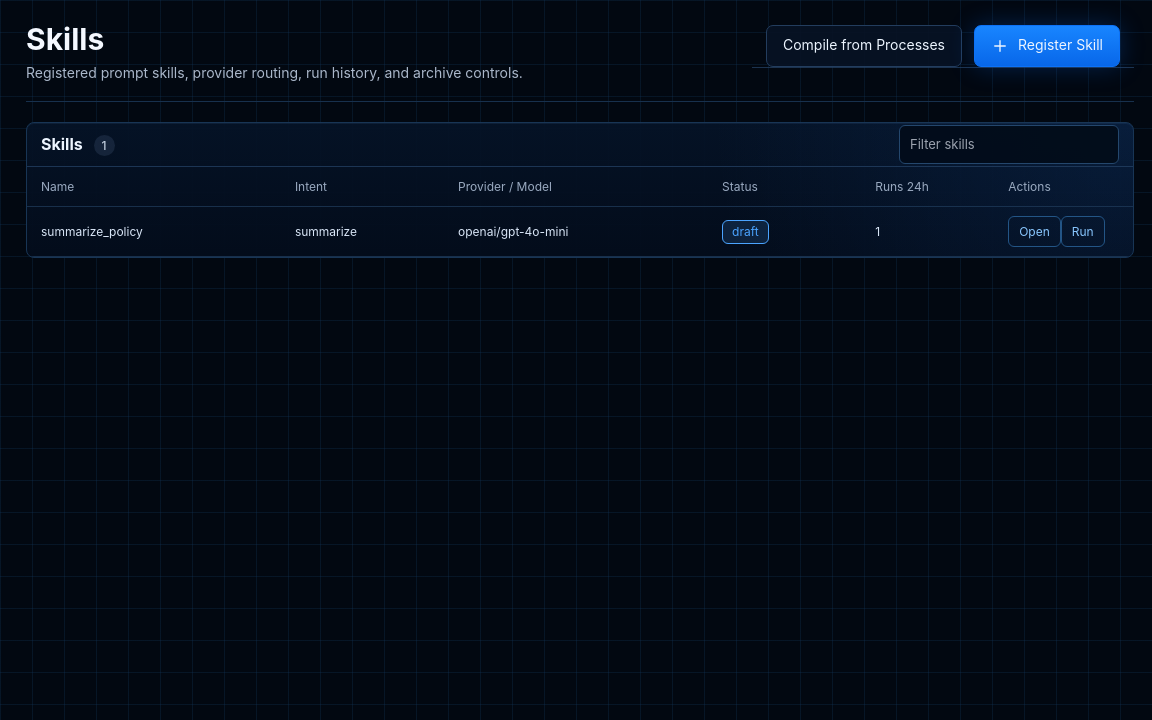
it: Phase 13.B UI › run_skill_modal_submits_and_shows_output
Click the button with aria-label "Run summarize_policy".
click(1083, 232)  # box left=1061, top=216, right=1105, bottom=248
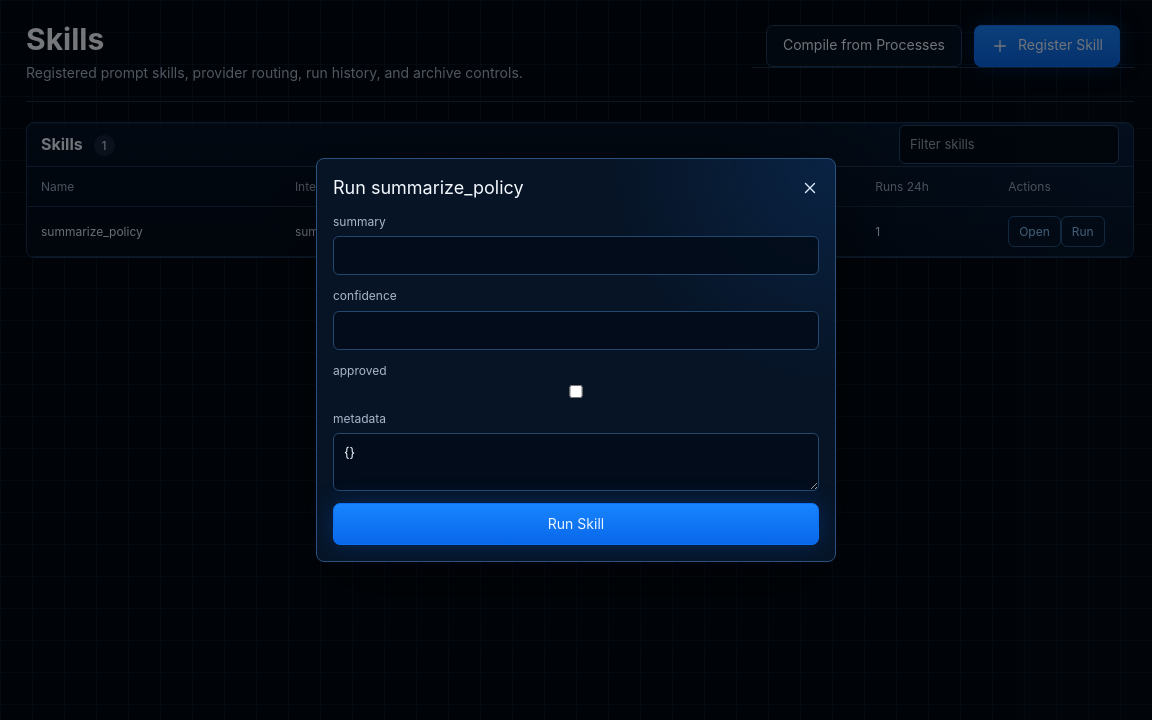
Type "ship it" into the field labelled "summary".
click(576, 256); type("ship it")  # box left=333, top=236, right=819, bottom=275
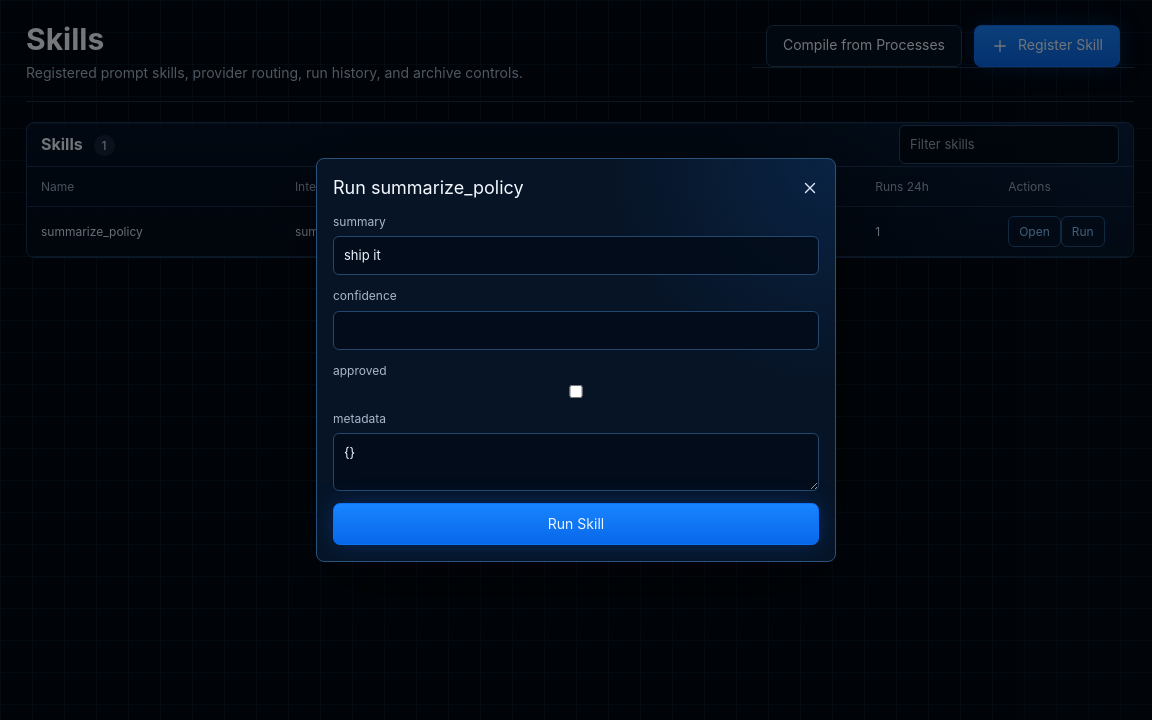
Type "0.91" into the number field labelled "confidence".
click(576, 330); type("0.91")  # box left=333, top=311, right=819, bottom=350
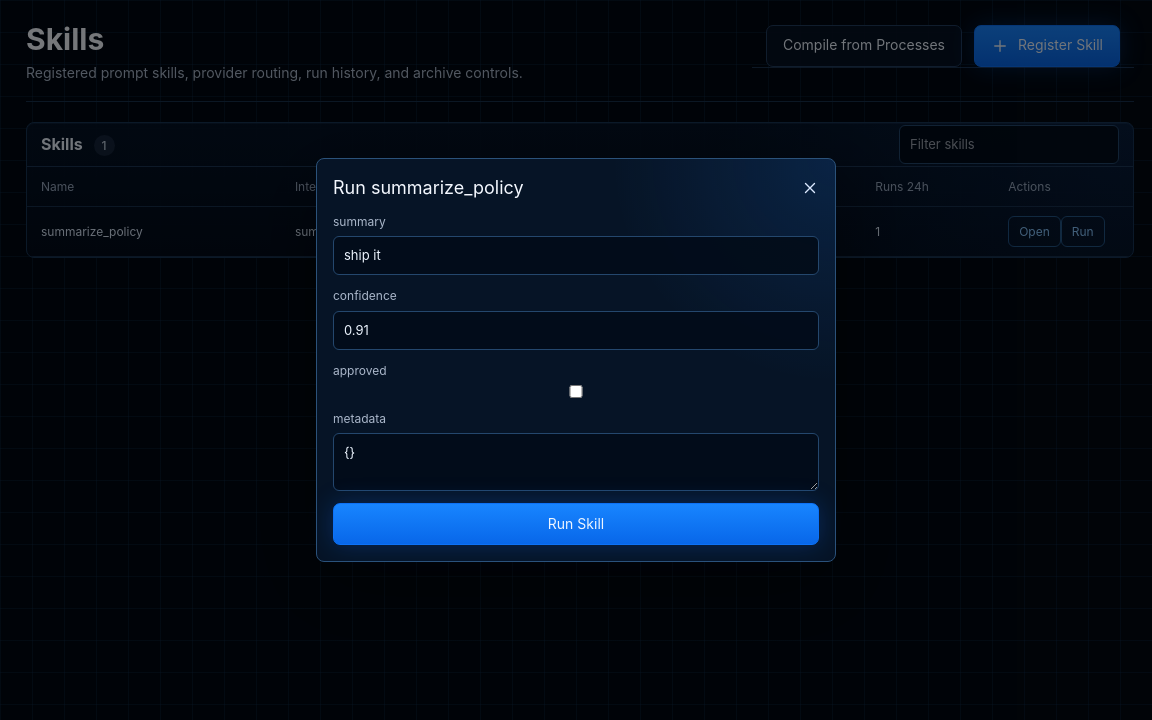
Click the checkbox labelled "approved".
click(576, 391)  # box left=333, top=385, right=819, bottom=398
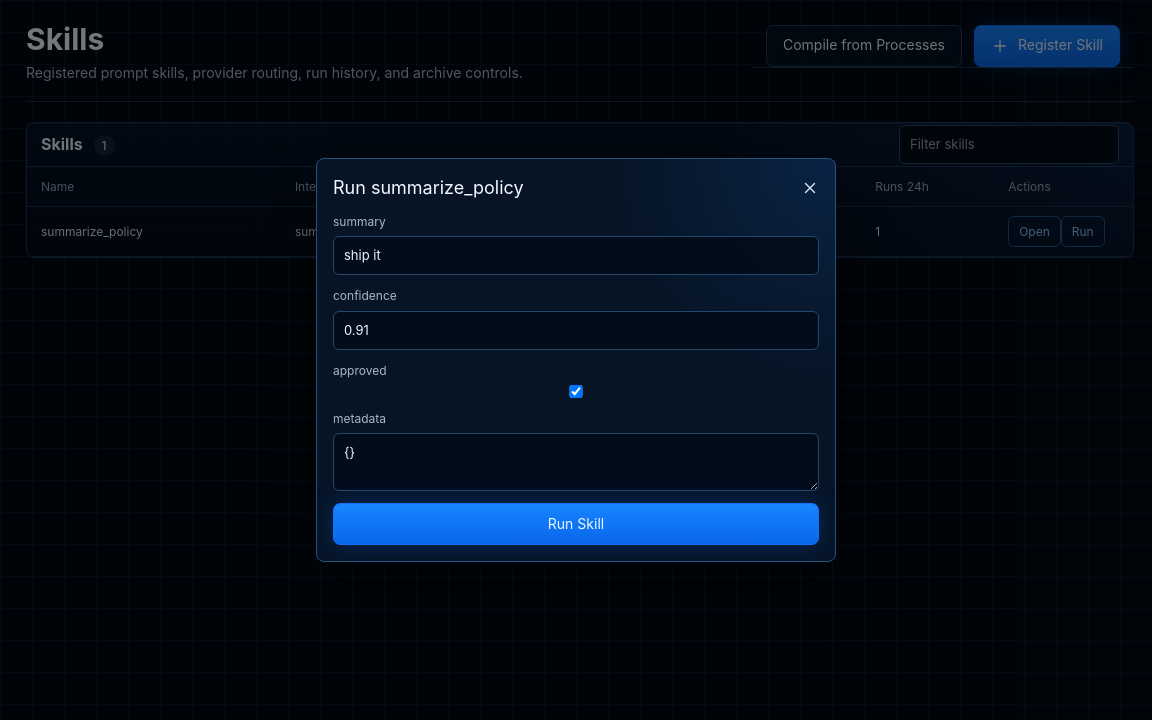
Click the button "Run Skill".
click(576, 524)  # box left=333, top=503, right=819, bottom=545
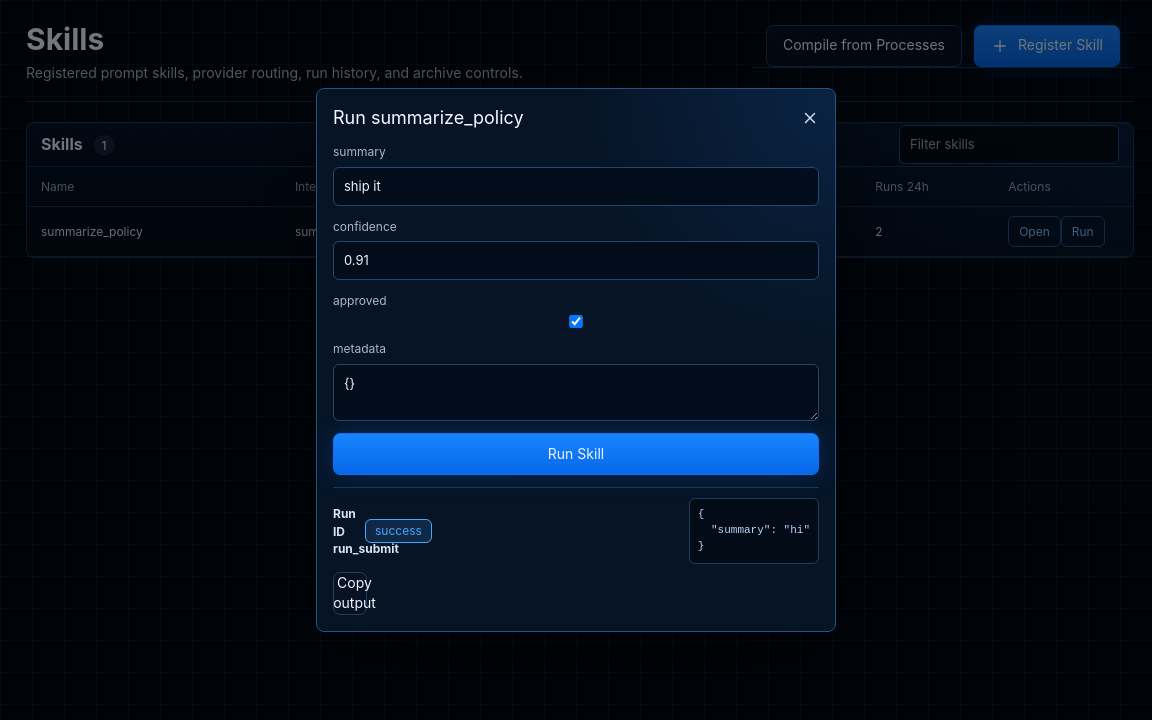
expect the text "Run ID run_submit" is shown: met, box left=333, top=505, right=357, bottom=557
expect the button "Copy output" is shown: met, box left=333, top=572, right=367, bottom=615
